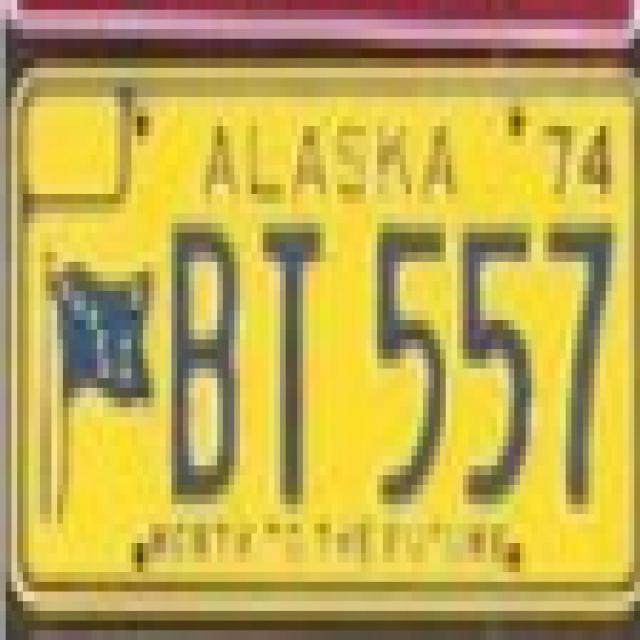5: (368, 204, 454, 512), (460, 202, 538, 502)
7: (538, 204, 622, 519)
B: (166, 211, 242, 510)
T: (258, 206, 332, 509)
